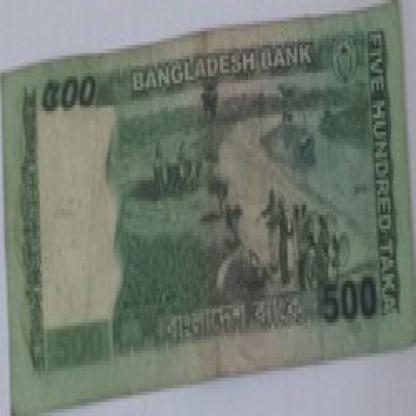500 taka: (16, 62, 124, 139)
currency: (1, 14, 413, 395)
